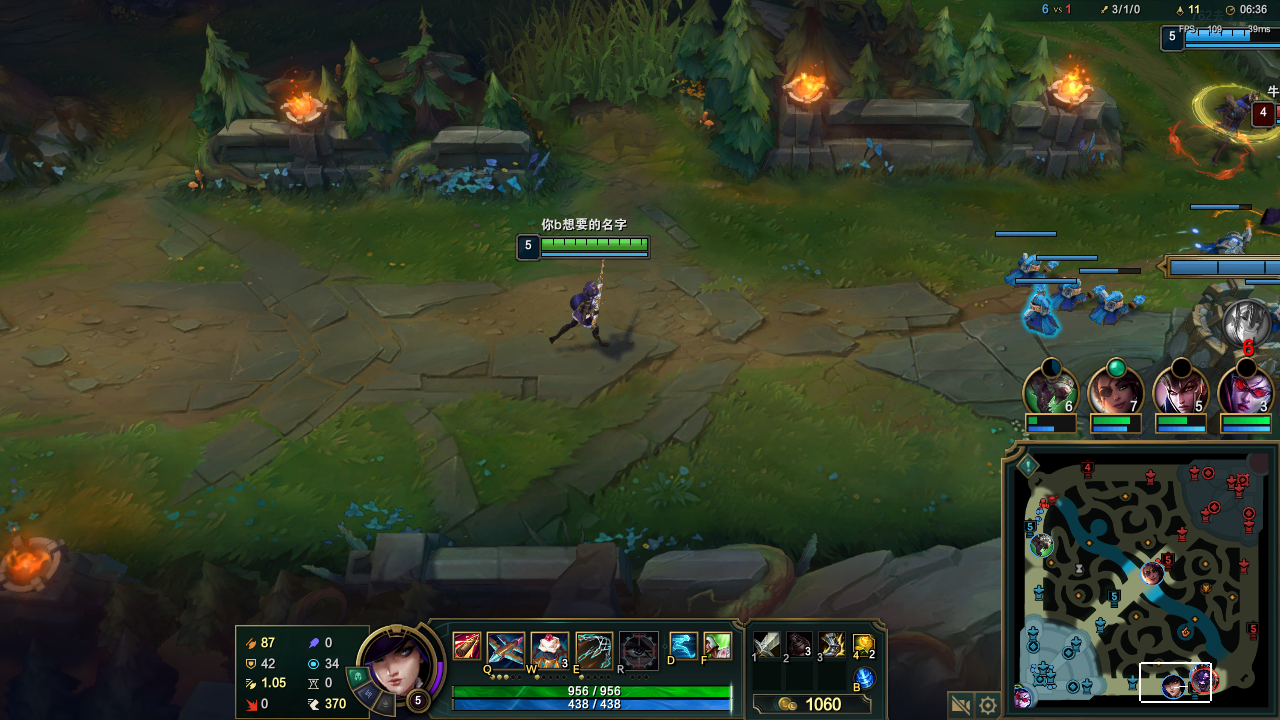WFXB: (1199, 221, 1252, 264), (1018, 294, 1061, 335), (1007, 247, 1052, 284), (1096, 284, 1141, 320), (1056, 271, 1089, 314)
